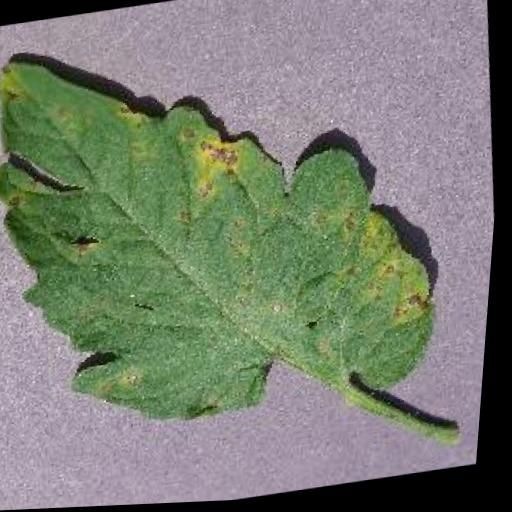Septoria: (0, 0, 459, 448)
